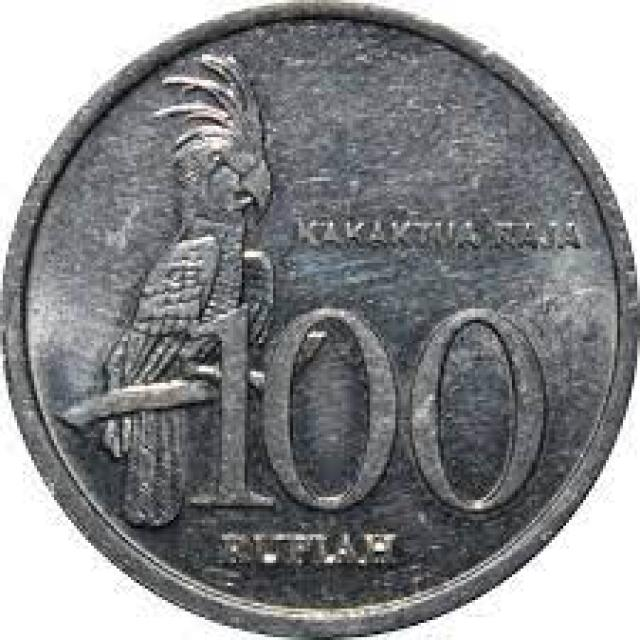500-silver: (6, 4, 635, 635)
